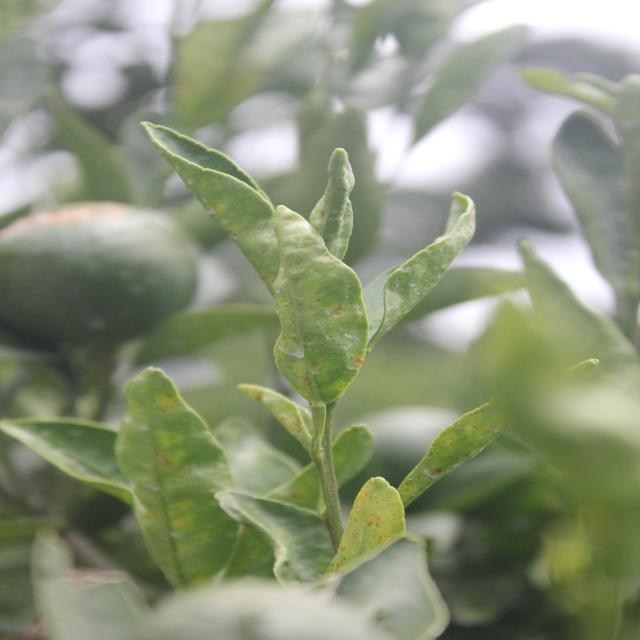canker: (268, 243, 373, 397), (123, 388, 215, 548), (333, 481, 409, 569)
